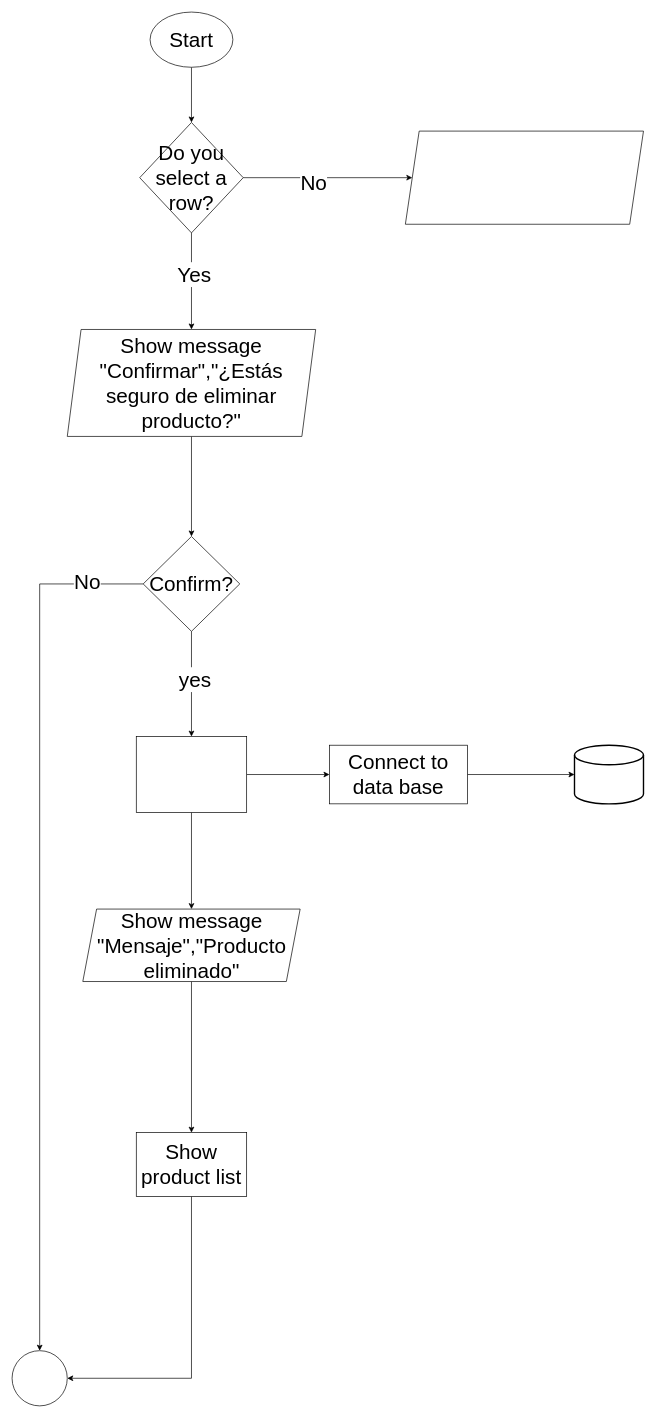
Some shapes in this 656 by 1418 pixel diagram are drawn without their labels. The shapes that lost their labels are listed below. From the top down, each one's centre as x and y in pixels, then its label:
(524,177): Show message "Error", "Por favor seleccione el producto en la tabla"
(191,774): Run query
(608,774): Store
(39,1378): End
